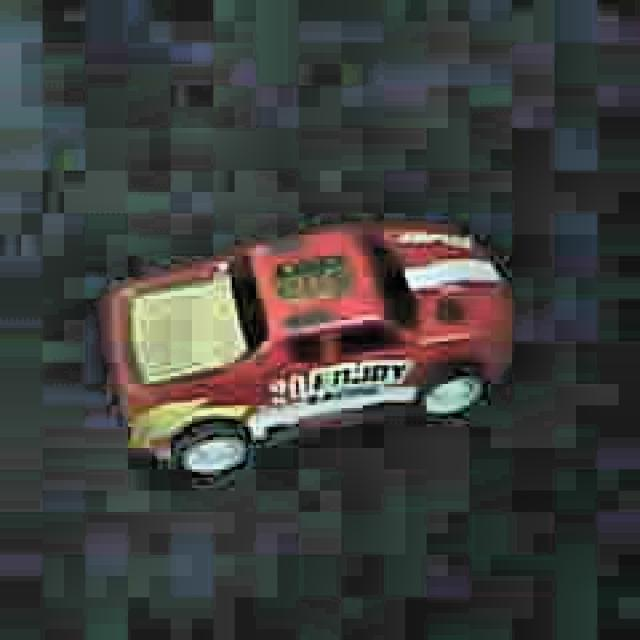car: (100, 214, 518, 486)
